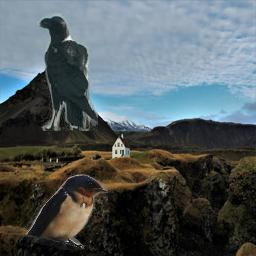Crow: (38, 13, 99, 131)
Swallow: (26, 174, 109, 250)
